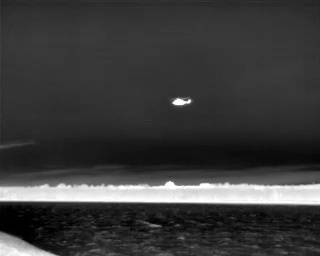HELICOPTER: (168, 92, 196, 111)
